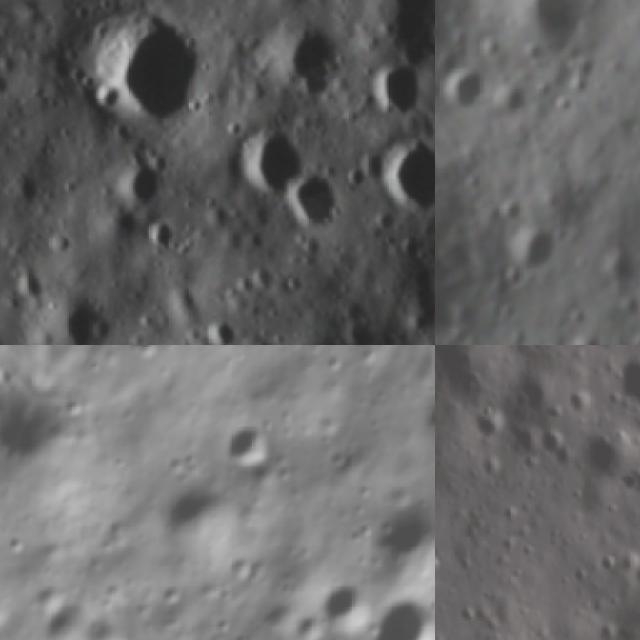crater: (76, 0, 228, 148), (215, 112, 332, 220), (145, 466, 252, 580), (250, 10, 361, 113), (269, 155, 366, 254), (360, 120, 435, 234), (358, 487, 435, 590), (33, 274, 127, 345), (359, 48, 435, 133), (307, 567, 383, 640), (212, 412, 288, 483), (27, 575, 107, 640), (355, 576, 435, 640), (108, 151, 170, 220), (518, 0, 584, 53), (65, 599, 143, 640), (404, 368, 435, 465), (586, 418, 630, 484), (140, 205, 188, 262), (508, 226, 560, 272), (447, 68, 492, 119), (435, 221, 461, 307), (52, 386, 97, 430), (243, 260, 283, 306), (115, 345, 172, 377), (597, 251, 639, 291), (536, 420, 573, 464), (472, 398, 510, 440), (197, 310, 240, 345), (497, 79, 531, 121), (619, 355, 640, 406), (498, 197, 530, 223), (435, 73, 451, 121), (581, 332, 604, 345), (628, 328, 640, 345)
